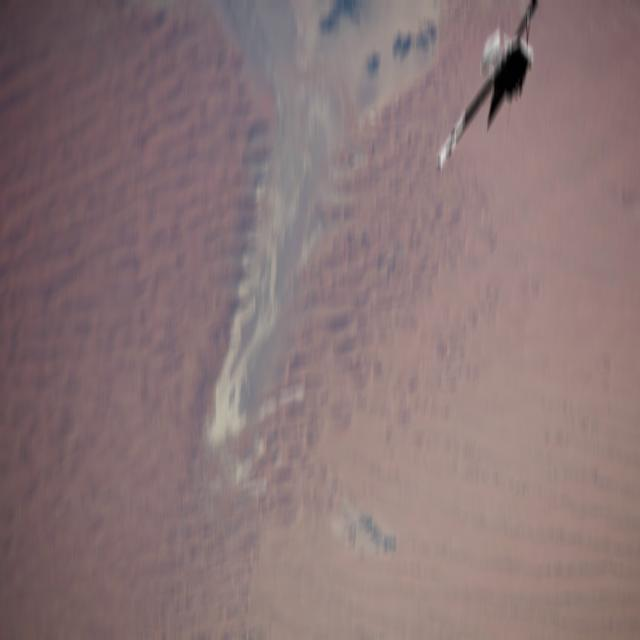satellite: (410, 0, 555, 186)
